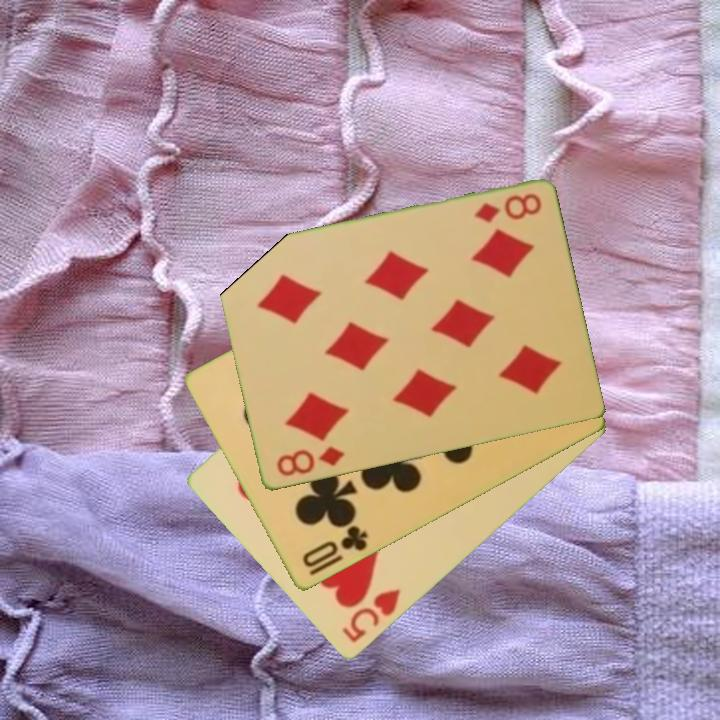10c: (298, 522, 371, 571)
5h: (338, 585, 404, 646)
8d: (273, 443, 347, 480), (469, 190, 544, 226)
